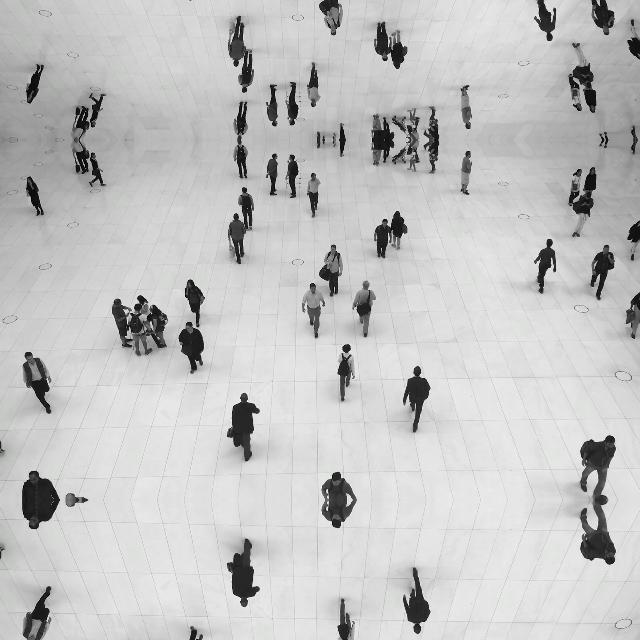person: (579, 434, 617, 500), (579, 500, 617, 566), (227, 392, 261, 462), (227, 538, 261, 608), (402, 366, 432, 434), (402, 566, 432, 634), (23, 351, 53, 415), (23, 585, 53, 640), (352, 280, 378, 338), (590, 243, 616, 301), (178, 321, 205, 375), (302, 282, 326, 340), (533, 238, 557, 294), (128, 303, 152, 357), (336, 343, 356, 403), (21, 470, 61, 500), (21, 500, 61, 530), (571, 190, 595, 238), (571, 42, 595, 90), (322, 244, 343, 298), (111, 297, 133, 348), (184, 279, 206, 329), (321, 472, 357, 501), (321, 499, 357, 528), (227, 213, 247, 265), (227, 15, 247, 67), (533, 0, 557, 42), (590, 0, 616, 37), (148, 303, 168, 349), (336, 597, 355, 640), (24, 176, 44, 216), (372, 218, 392, 258), (24, 64, 44, 104), (372, 22, 392, 62), (237, 187, 255, 231), (237, 49, 255, 93), (390, 210, 408, 252), (322, 0, 343, 36), (390, 29, 408, 70), (306, 172, 322, 218), (306, 62, 322, 108), (625, 292, 640, 340), (284, 154, 300, 198), (284, 82, 300, 126), (89, 152, 108, 188), (89, 92, 108, 128), (70, 140, 90, 174), (70, 106, 90, 140), (233, 140, 249, 178), (233, 102, 249, 140), (461, 150, 474, 196), (461, 84, 474, 130), (627, 218, 640, 261), (627, 18, 640, 61), (568, 168, 582, 206), (568, 74, 582, 112), (266, 84, 278, 128), (266, 152, 278, 195), (582, 166, 598, 198), (582, 82, 598, 114), (426, 140, 440, 174), (426, 106, 440, 140), (136, 295, 152, 323), (177, 625, 204, 640), (404, 140, 420, 164), (404, 116, 420, 140), (381, 116, 395, 140), (381, 140, 395, 163), (372, 140, 384, 166), (372, 114, 384, 140), (408, 148, 418, 172), (408, 108, 418, 132), (64, 492, 90, 500), (64, 500, 90, 508), (630, 140, 640, 156), (630, 124, 640, 140), (338, 140, 346, 156), (338, 124, 346, 140), (600, 140, 608, 148), (600, 132, 608, 140), (316, 140, 320, 148), (316, 132, 320, 140), (184, 0, 206, 1)
